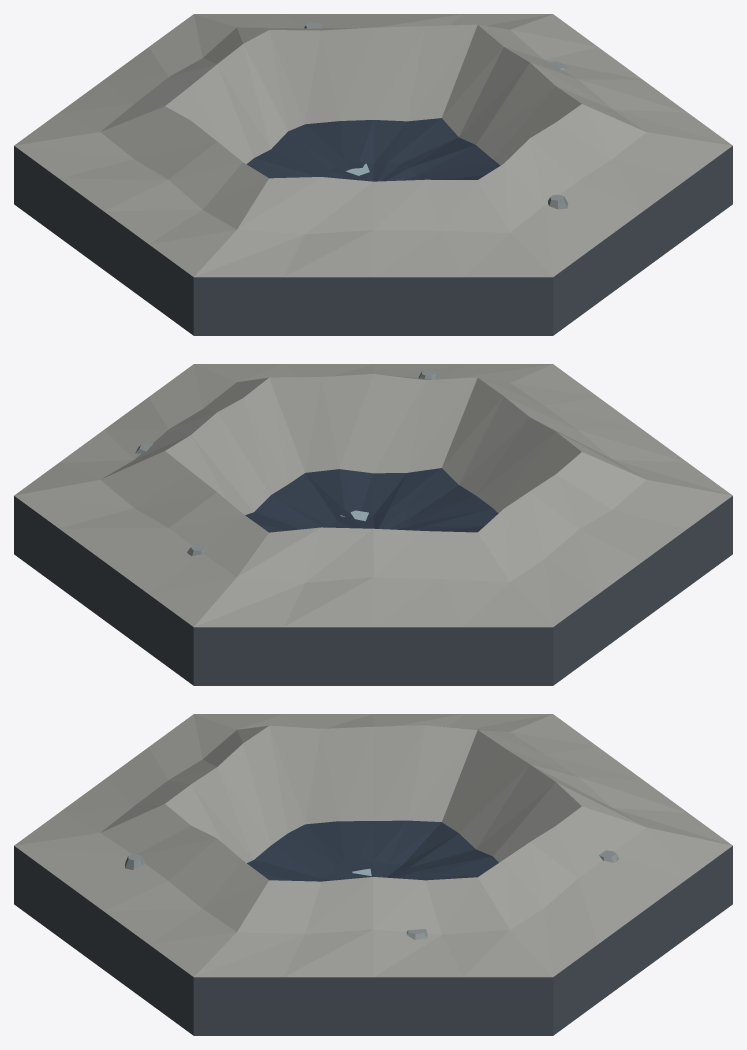
File: ShadowedCrater.obj
3 views of the same model, one above another, from view 1: azimuth 30°, elevation 25°; view 2: azimuth 150°, elevation 25°; view 3: azimuth 270°, elevation 25° (orthographic).
Visible parts, largest first — view 1: ShadowedCrater; view 2: ShadowedCrater; view 3: ShadowedCrater.
Part boxes in pixels (x1=…): ShadowedCrater: x1=14, y1=14, x2=732, y2=335; ShadowedCrater: x1=14, y1=364, x2=732, y2=685; ShadowedCrater: x1=14, y1=714, x2=732, y2=1035.
Bounding box in the file's own units: 1.73 × 0.3197 × 2.
